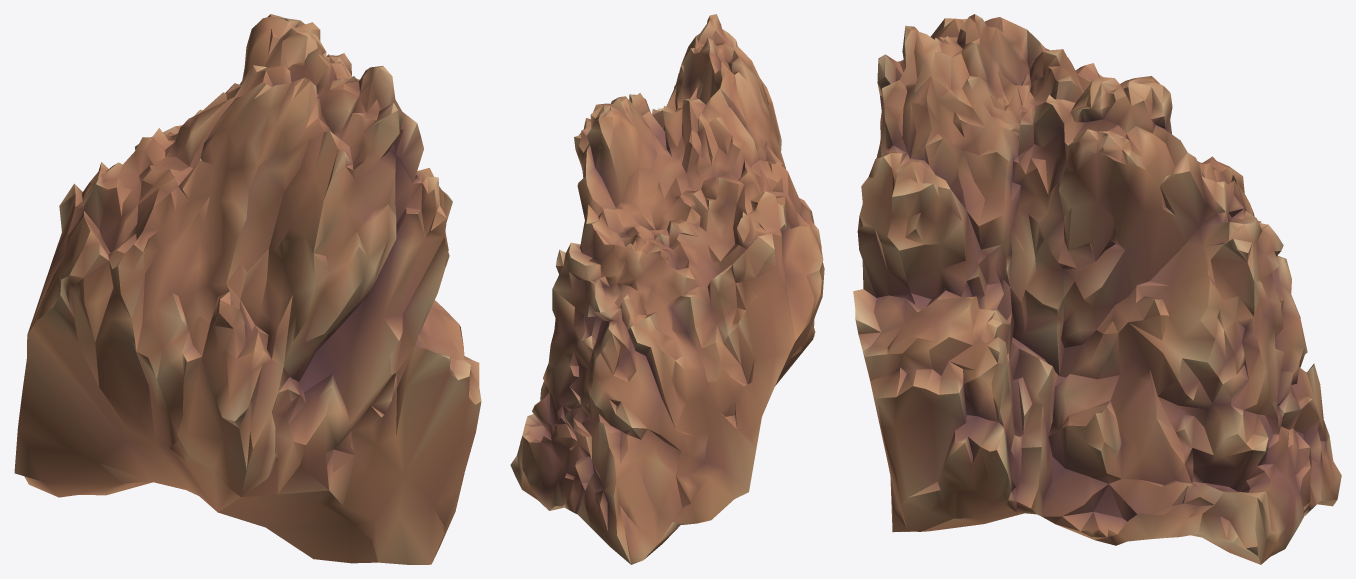
File: canyon-buttress-lod.glb
The picture shows the model from 3 angles, left to right: view 1: azimuth 30°, elevation 25°; view 2: azimuth 150°, elevation 25°; view 3: azimuth 270°, elevation 25°; orthographic projection. The views are drawn at different scales.
Parts seen in each view (by area): view 1: scanned-boulder-buttress-1-lod; view 2: scanned-boulder-buttress-1-lod; view 3: scanned-boulder-buttress-1-lod.
Boxes of the visible parts, left/top/right/bottom form: scanned-boulder-buttress-1-lod: left=14, top=14, right=481, bottom=564; scanned-boulder-buttress-1-lod: left=510, top=14, right=824, bottom=564; scanned-boulder-buttress-1-lod: left=853, top=14, right=1341, bottom=564.
Size of the model in its own units: 80 by 120 by 100.
